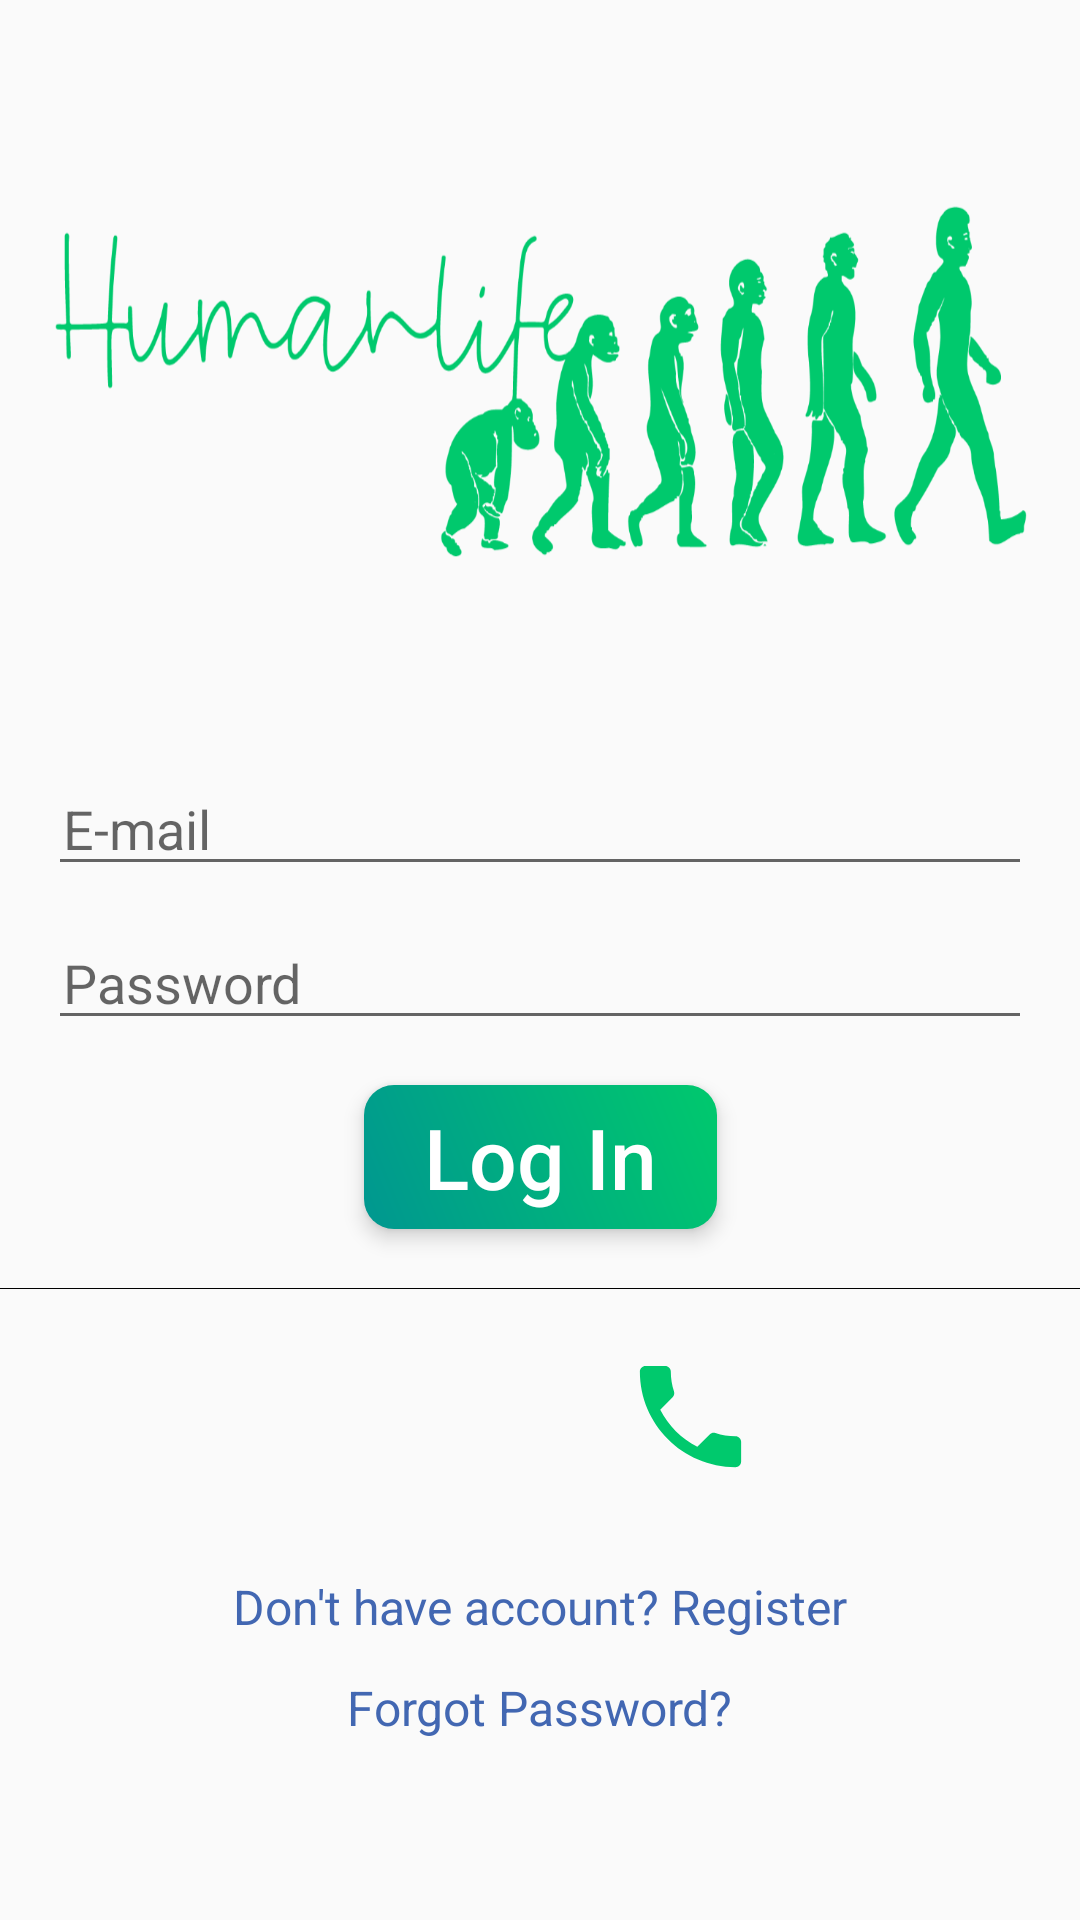

Icon click points for this 1080w x 1920h phone screenshot, format point (x, y):
phone: point (690, 1417)
